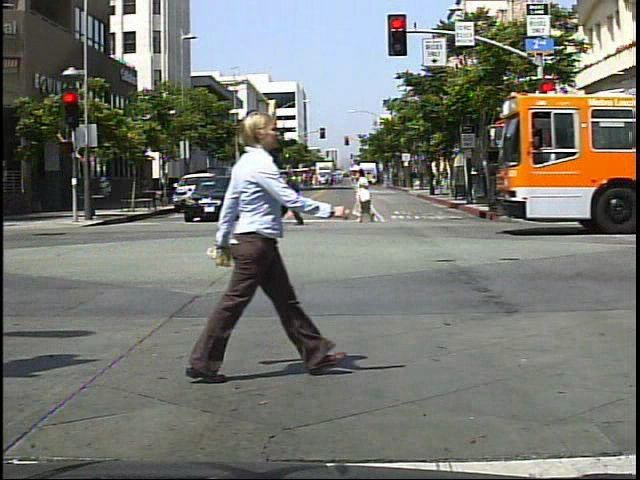person: (175, 90, 340, 390), (351, 166, 381, 227), (551, 160, 574, 211), (285, 168, 307, 199), (266, 168, 283, 180)
